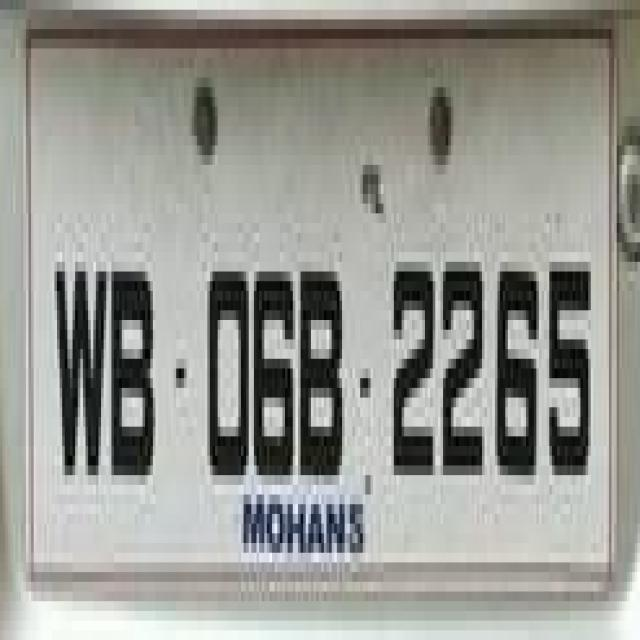license_plate: (23, 19, 640, 592)
